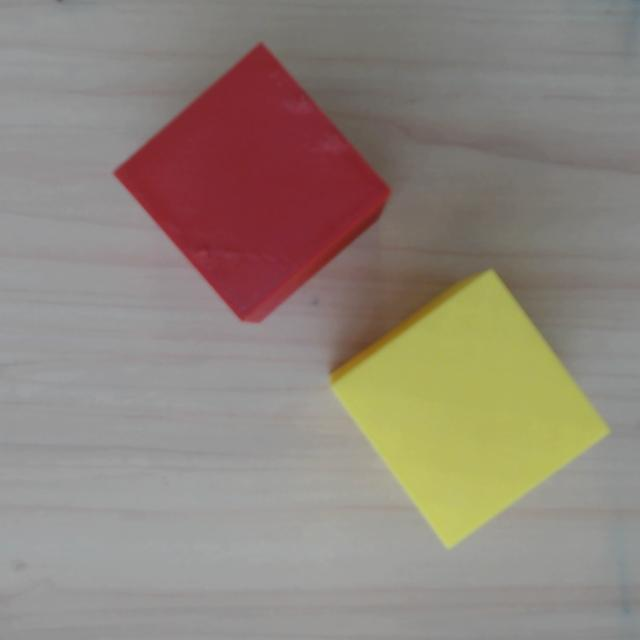Kubus-Kuning-505050: (323, 260, 612, 551)
Kubus-Merah-505050: (111, 41, 400, 331)
